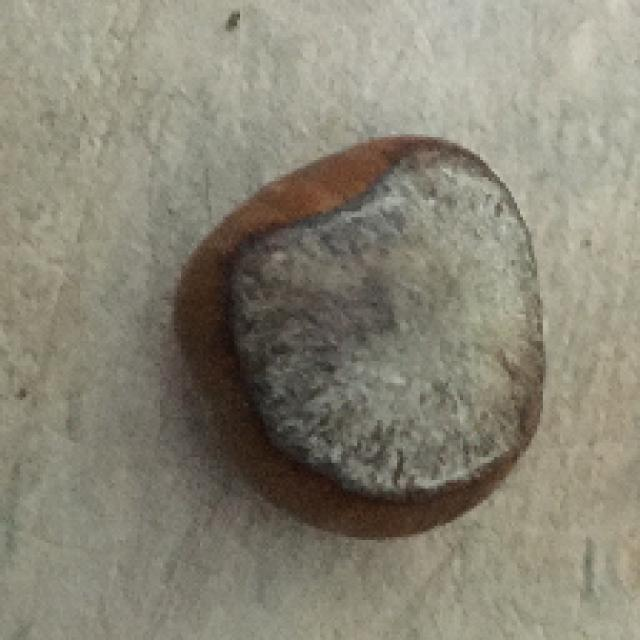qualityHazelnut: (178, 134, 549, 546)
